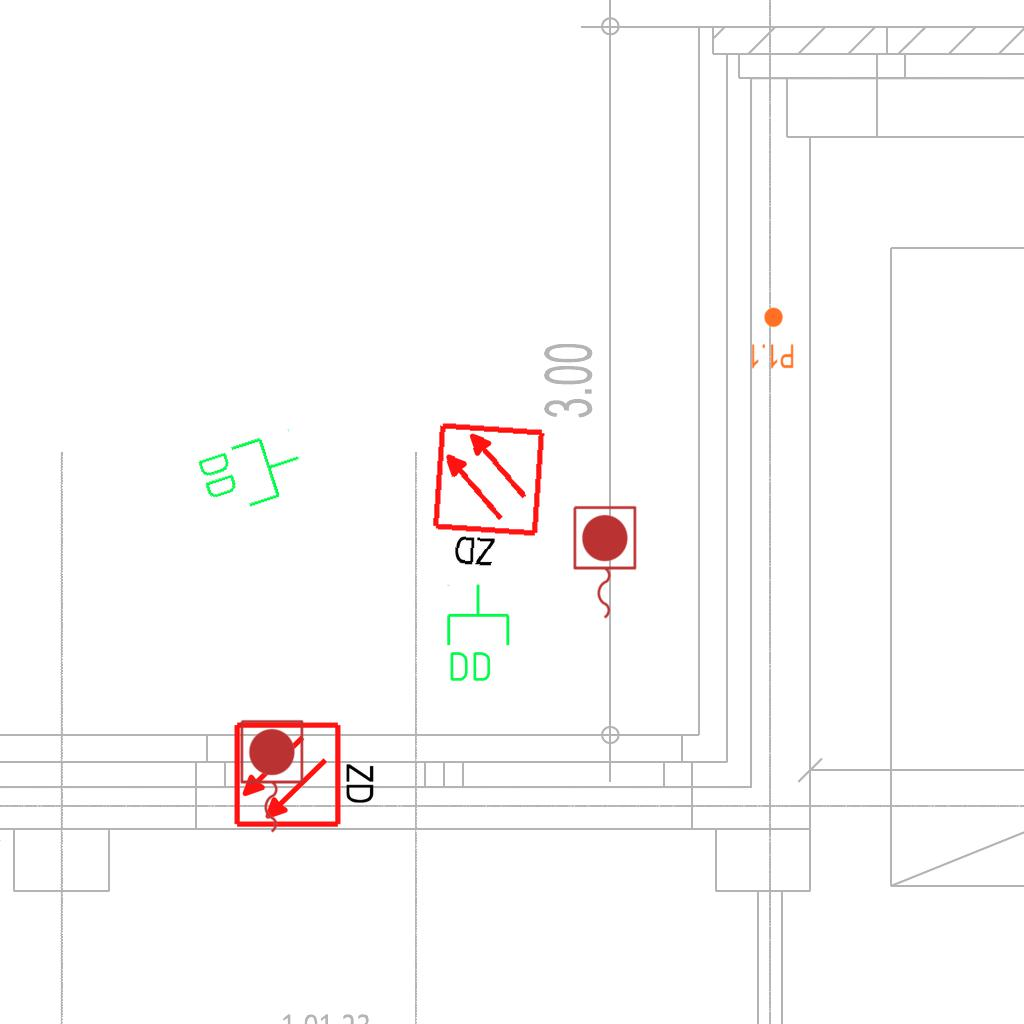Datenanschluss_zweifach: (191, 423, 312, 522), (443, 582, 512, 685)
Downlight_LED_Einbauleuchten_Flur: (749, 306, 795, 370)
ZD_Melder_in_Zwischendecke_mit_Revisionsoeffnung_mind_40_x_40_cm: (426, 420, 552, 577), (232, 716, 381, 830)
Zugtaster: (568, 502, 640, 624), (235, 716, 307, 838)
